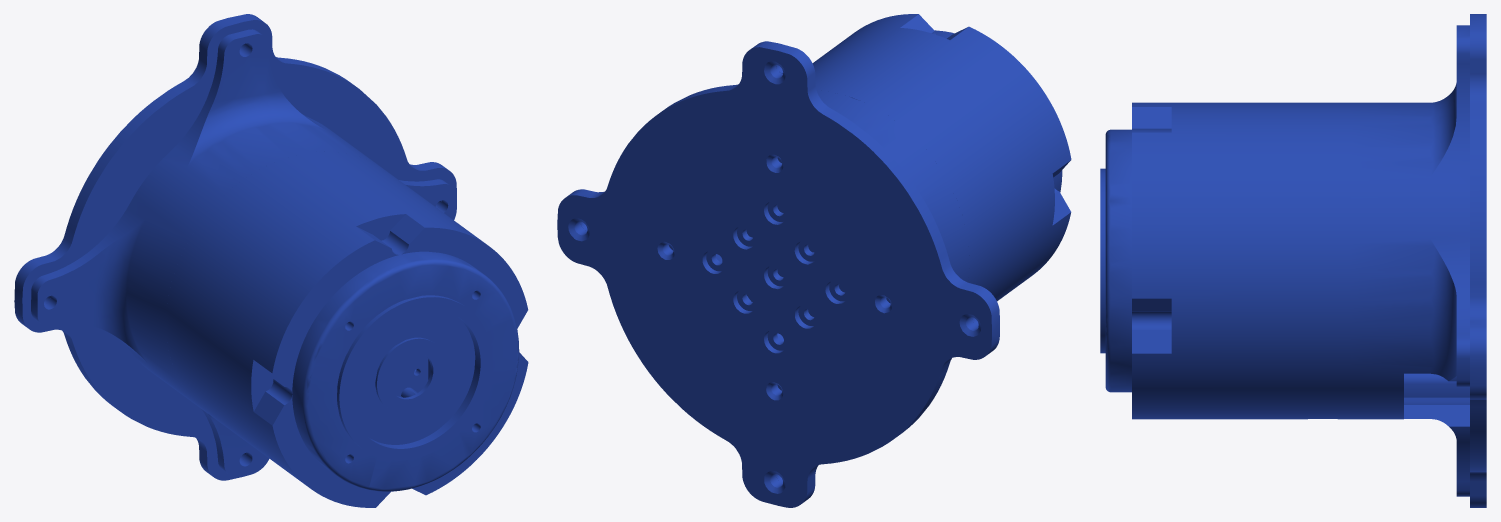
File: base_plate_link.glb
The picture shows the model from 3 angles, left to right: view 1: azimuth 30°, elevation 25°; view 2: azimuth 150°, elevation 25°; view 3: azimuth 270°, elevation 25°; orthographic projection. The views are drawn at different scales.
Visible parts, largest first — view 1: base_plate_link; view 2: base_plate_link; view 3: base_plate_link.
Boxes of the visible parts, x1,y1,x2,y2 form: base_plate_link: (14,14,528,507); base_plate_link: (557,14,1071,507); base_plate_link: (1100,14,1486,507).
Bounding box in the file's own units: 0.2 × 0.2 × 0.1464.
